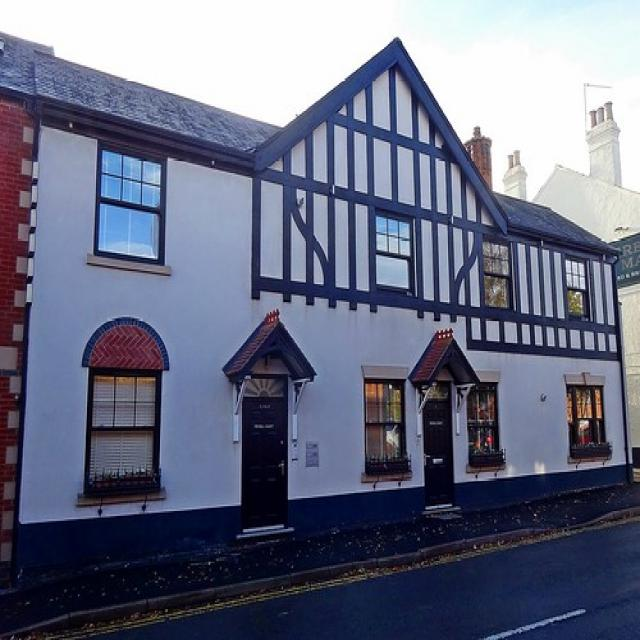Normal_building: (6, 30, 632, 569)
